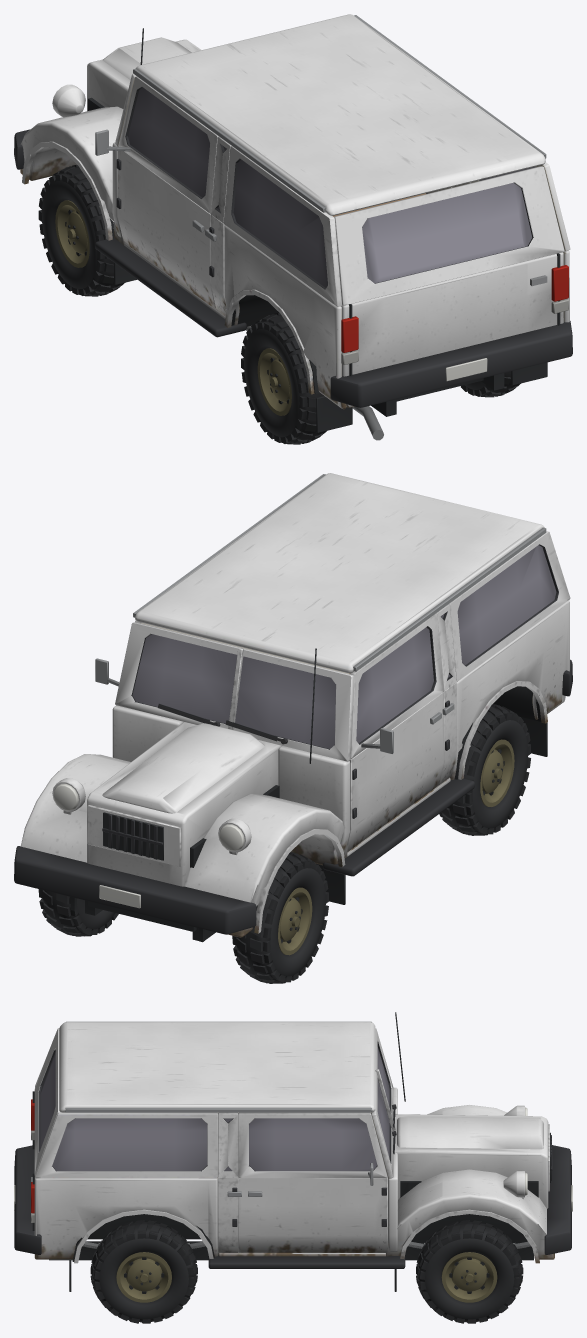
Rendered from boar.glb.
The picture shows the model from 3 angles, top to bottom: view 1: azimuth 30°, elevation 25°; view 2: azimuth 150°, elevation 25°; view 3: azimuth 270°, elevation 25°; orthographic projection. The views are drawn at different scales.
Parts seen in each view (by area): view 1: body, door_FL, wheel_RL, wheel_FL, door_RL, wheel_RR; view 2: body, door_FL, wheel_FL, wheel_RL, door_RL, wheel_FR; view 3: body, door_FR, wheel_FR, wheel_RR, door_RR.
Boxes of the visible parts, bbox=[...] form: body: bbox=[14, 14, 572, 440]; door_FL: bbox=[95, 76, 218, 307]; wheel_RL: bbox=[241, 313, 326, 444]; wheel_FL: bbox=[38, 165, 124, 296]; door_RL: bbox=[205, 136, 231, 315]; wheel_RR: bbox=[460, 371, 520, 397]; body: bbox=[14, 473, 572, 942]; door_FL: bbox=[347, 613, 443, 851]; wheel_FL: bbox=[232, 852, 328, 983]; wheel_RL: bbox=[439, 704, 530, 835]; door_RL: bbox=[436, 604, 456, 784]; wheel_FR: bbox=[38, 889, 118, 936]; body: bbox=[14, 1012, 572, 1291]; door_FR: bbox=[238, 1112, 387, 1252]; wheel_FR: bbox=[416, 1220, 523, 1323]; wheel_RR: bbox=[90, 1220, 197, 1323]; door_RR: bbox=[218, 1112, 241, 1252].
Size of the model in its own units: 2.32 by 2.19 by 4.69.
Materials: 16 (1 with a texture image).
